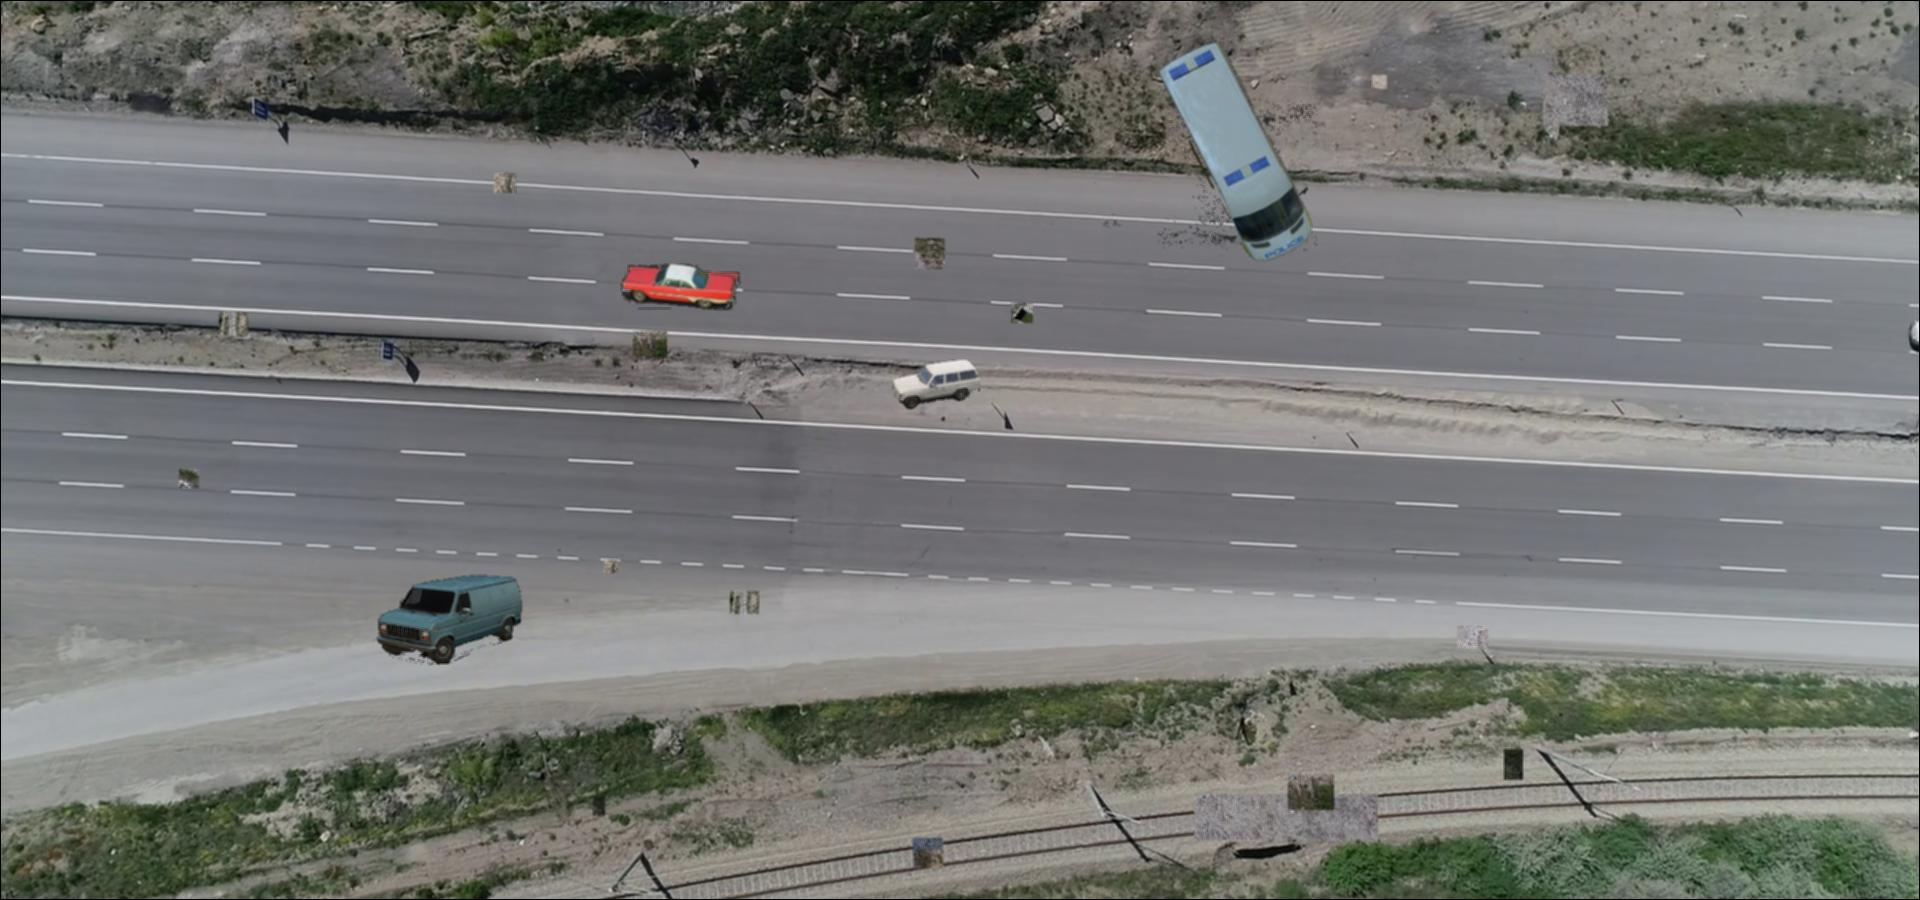arac: (1156, 38, 1318, 263), (376, 569, 522, 666), (620, 264, 743, 310), (891, 360, 980, 410)
